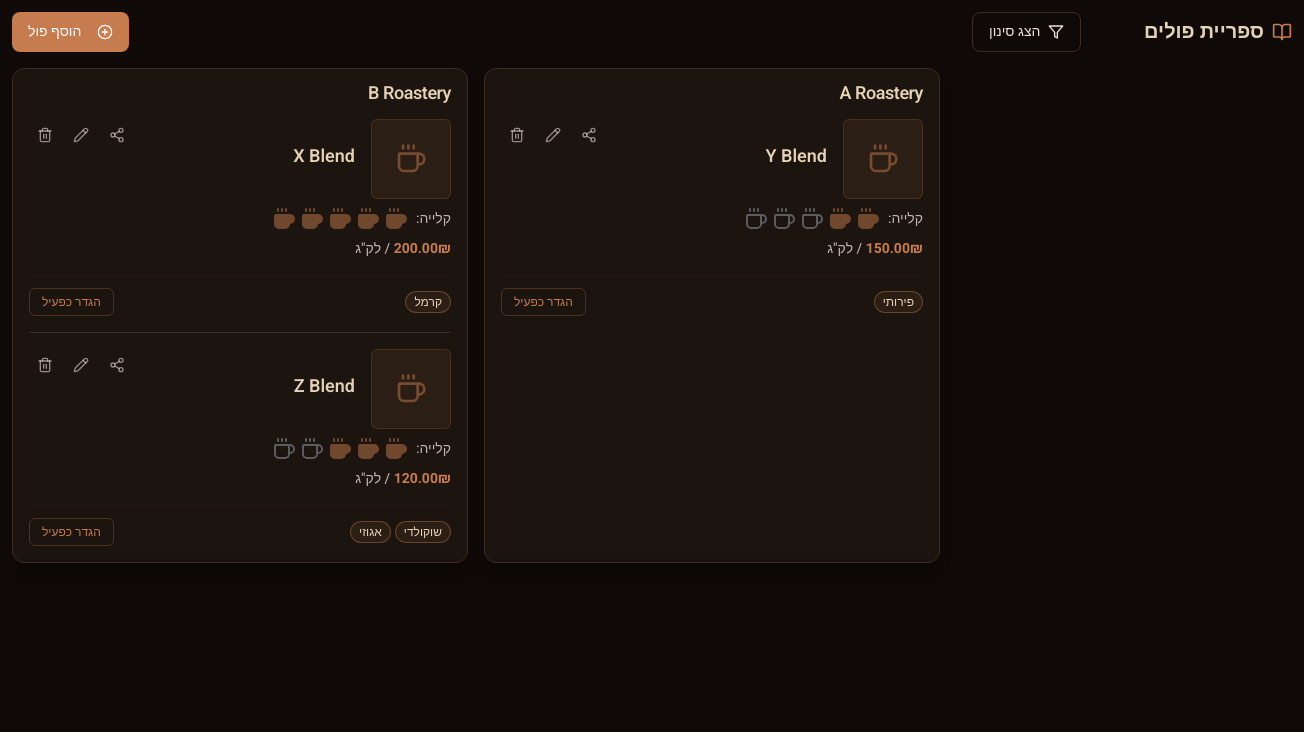
BeanLibrary › filters by flavor tag
The width and height of the screenshot is (1304, 732).
Click the button "הצג סינון" at point(1027, 32), box x1=972 y1=12 x2=1082 y2=52
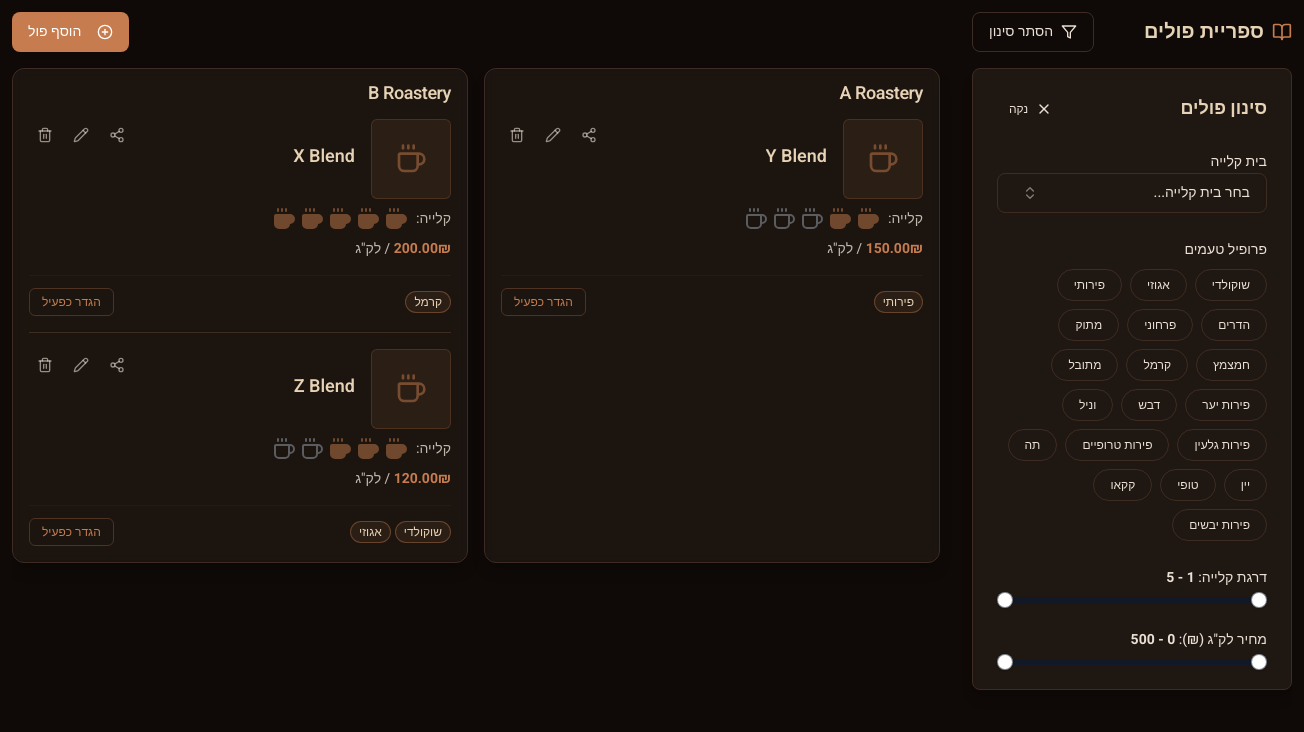
Click the button "שוקולדי" at point(1231, 285), box x1=1195 y1=269 x2=1267 y2=301
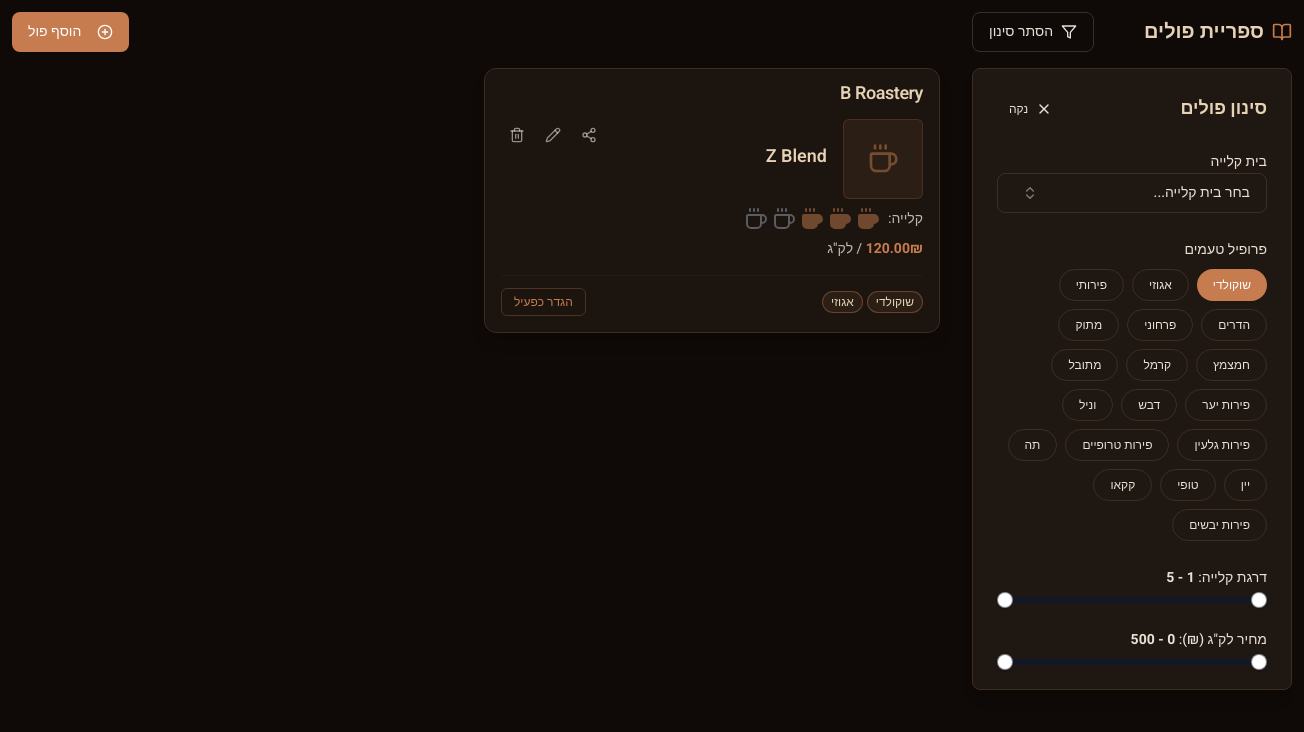
Expected: the heading with test id "roastery-title" reads "B Roastery", x1=840 y1=80 x2=923 y2=107
Expected: the number of headings with test id "roastery-title" is 1, x1=840 y1=80 x2=923 y2=107
Expected: the text "Z Blend" is shown once, x1=766 y1=143 x2=827 y2=171
